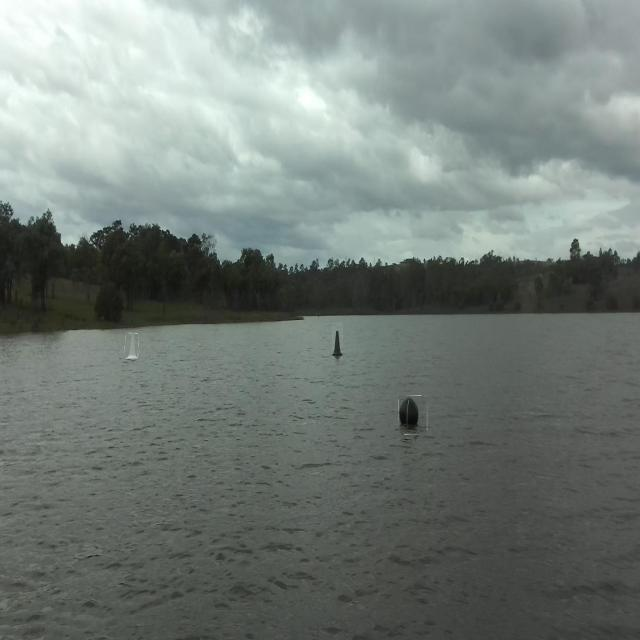Black_Buoy: (388, 394, 428, 441), (325, 330, 356, 370)
White_Buoy: (122, 320, 148, 367)
